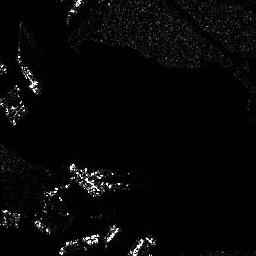ship: (69, 161, 104, 197), (17, 57, 40, 96)
